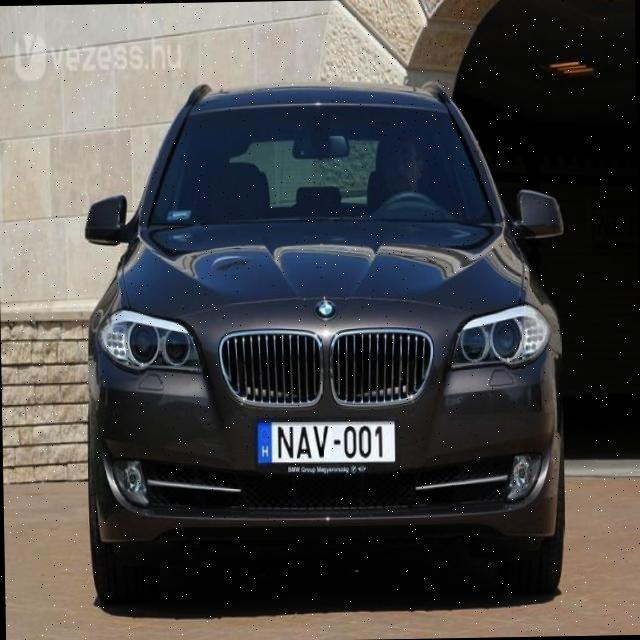licence: (252, 412, 400, 476)
